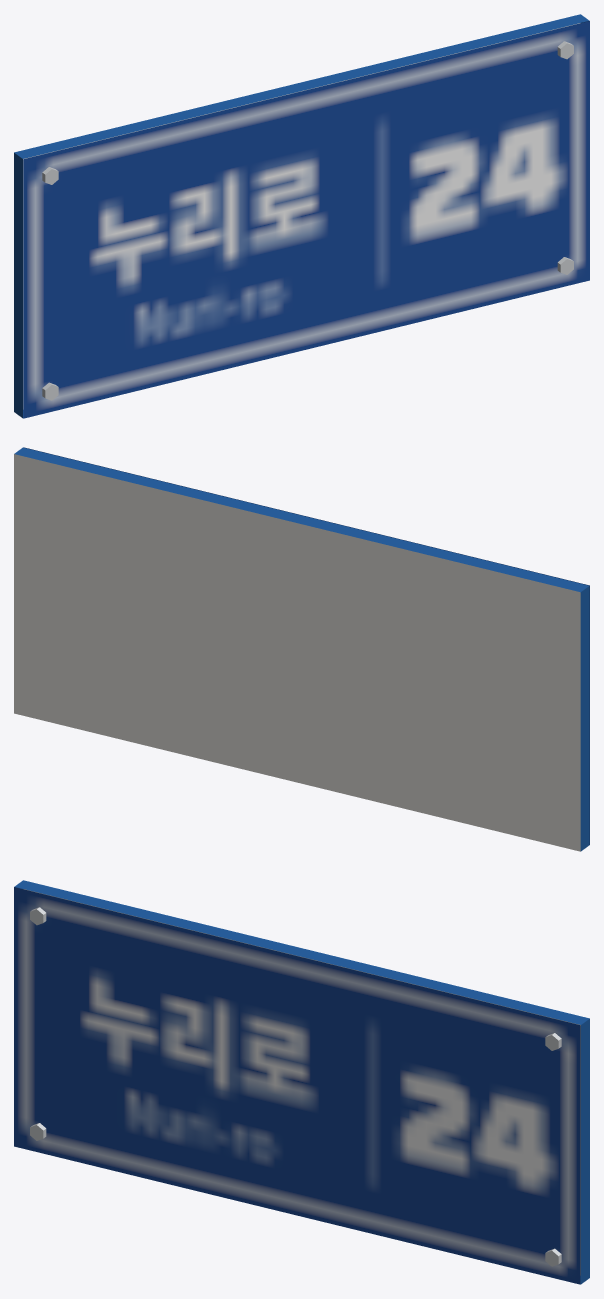
The model's file is SC_Util_Address_Plate.gltf.
3 views of the same model, one above another, from view 1: azimuth 30°, elevation 25°; view 2: azimuth 150°, elevation 25°; view 3: azimuth 330°, elevation 25° (orthographic).
Visible parts, largest first — view 1: SC_Util_Address_Plate; view 2: SC_Util_Address_Plate; view 3: SC_Util_Address_Plate.
Boxes of the visible parts, <box> form: SC_Util_Address_Plate: <box>14,14,589,418</box>; SC_Util_Address_Plate: <box>14,447,589,851</box>; SC_Util_Address_Plate: <box>14,880,589,1284</box>.
Bounding box in the file's own units: 0.44 × 0.1925 × 0.0165.
Materials: 2 (2 with a texture image).
